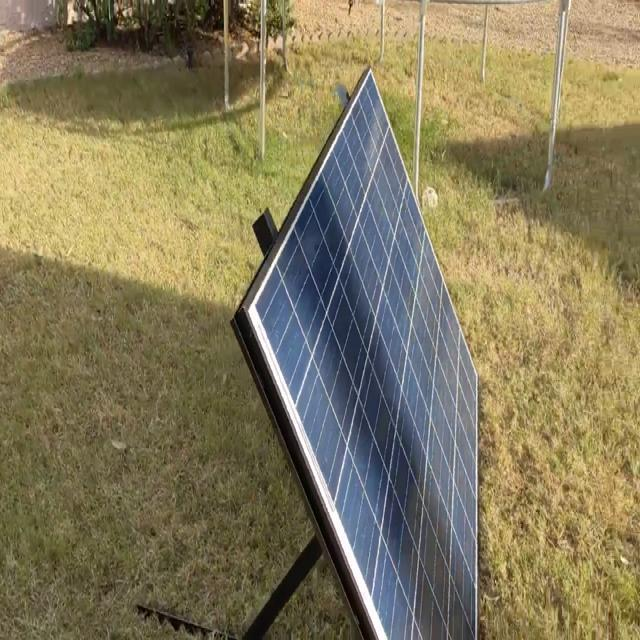Normal Solar Panel: (242, 73, 482, 640)
